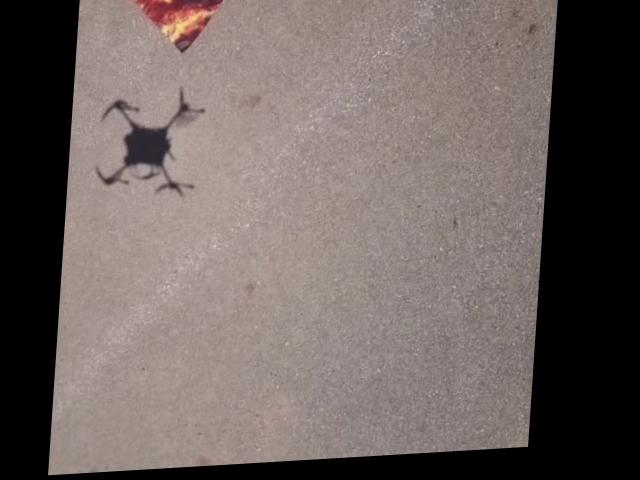fire-poster: (96, 0, 254, 59)
